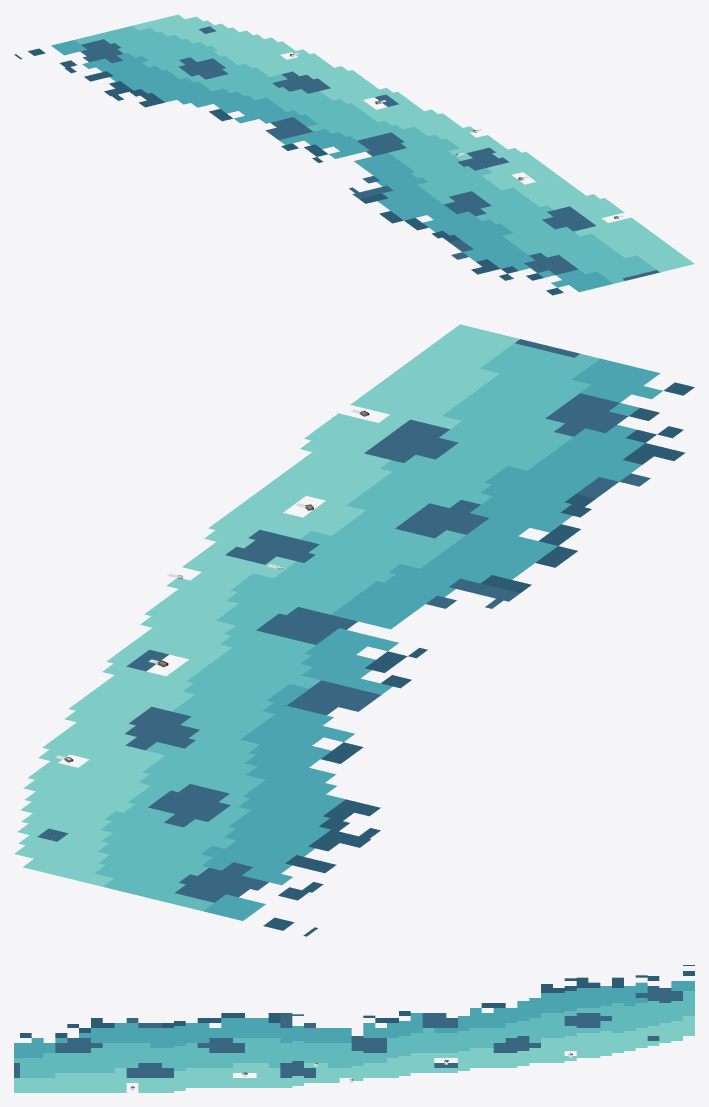
File: nw_sw_arashi.glb
The picture shows the model from 3 angles, top to bottom: view 1: azimuth 30°, elevation 25°; view 2: azimuth 150°, elevation 25°; view 3: azimuth 270°, elevation 25°; orthographic projection. The views are drawn at different scales.
Parts seen in each view (by area): view 1: nw_sw_arashi_lod0; view 2: nw_sw_arashi_lod0; view 3: nw_sw_arashi_lod0.
Part boxes in pixels (x1=…): nw_sw_arashi_lod0: x1=14, y1=14, x2=694, y2=295; nw_sw_arashi_lod0: x1=14, y1=324, x2=694, y2=936; nw_sw_arashi_lod0: x1=14, y1=965, x2=694, y2=1092.
Size of what is drawn, in the model's own units: 102 by 0.42 by 230.
